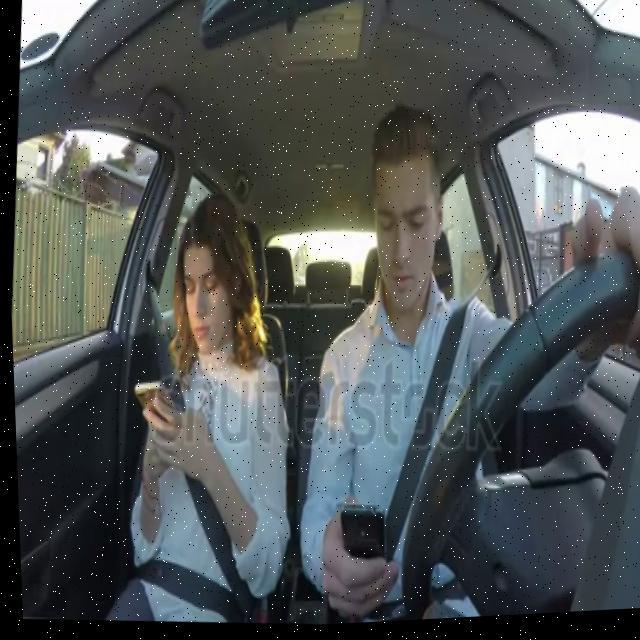PhoneCall: (330, 504, 388, 590), (125, 379, 174, 426)
